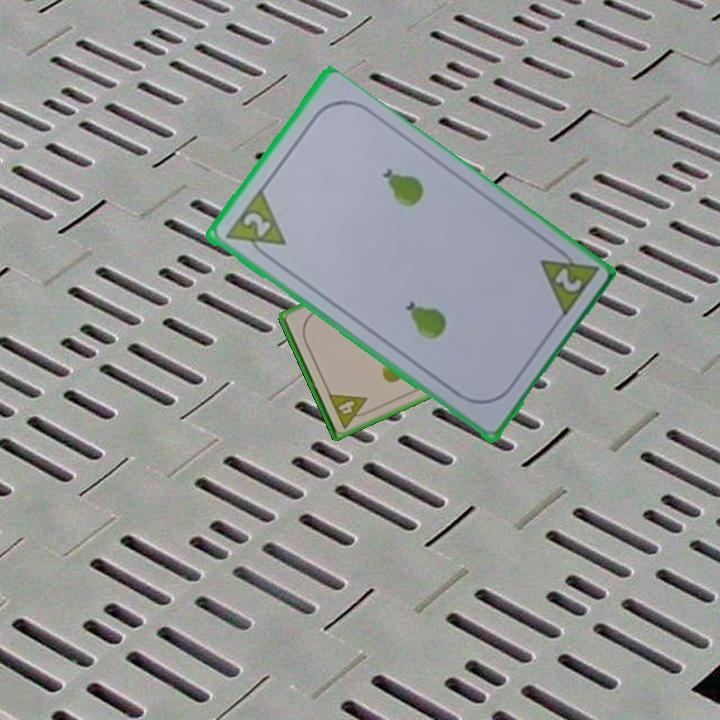2p: (534, 239, 600, 322), (238, 208, 273, 240)
4p: (325, 389, 374, 431)
